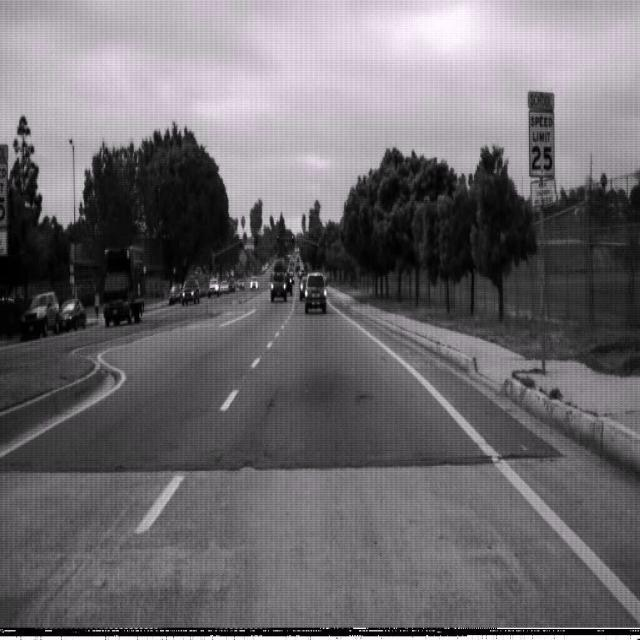speedLimit25: (527, 88, 557, 210)
